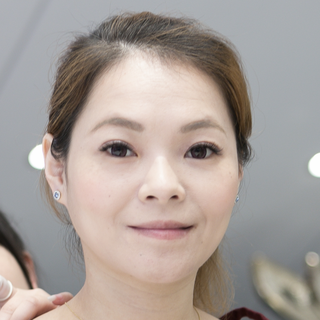eye: (94, 134, 141, 164), (177, 136, 222, 165)
